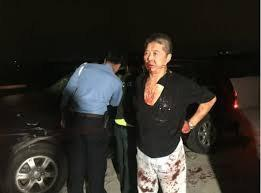Drunk: (142, 42, 165, 72)
